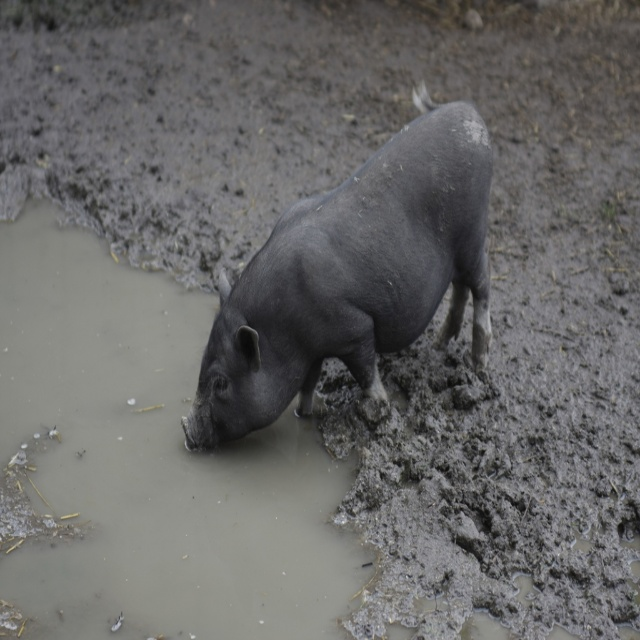Pig: (177, 92, 495, 471)
